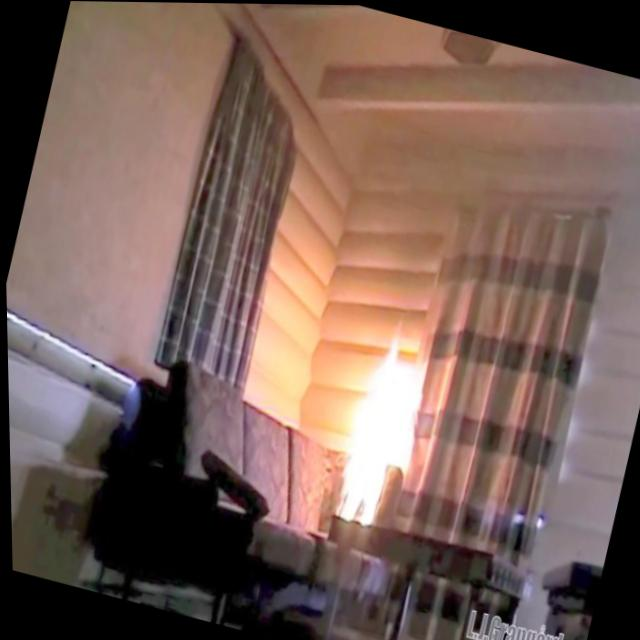fire: (321, 320, 443, 546)
